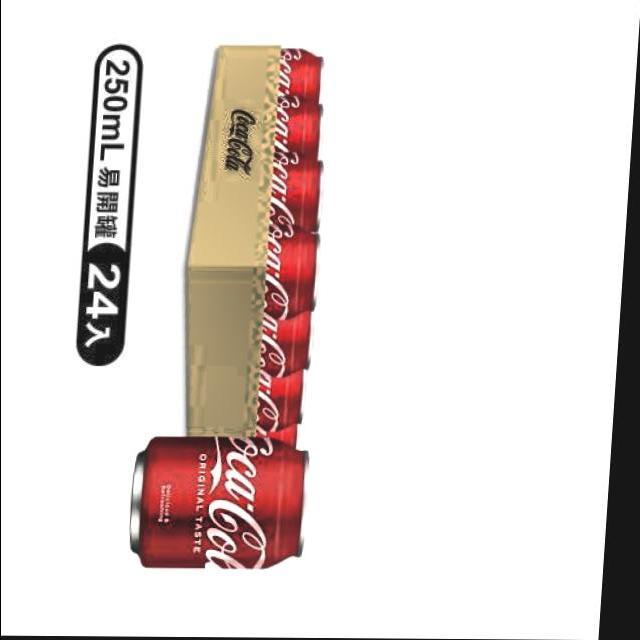litter: (124, 433, 324, 576), (260, 231, 328, 324), (250, 308, 326, 383), (264, 158, 332, 238), (266, 43, 332, 113), (254, 364, 316, 437), (270, 104, 331, 168)
